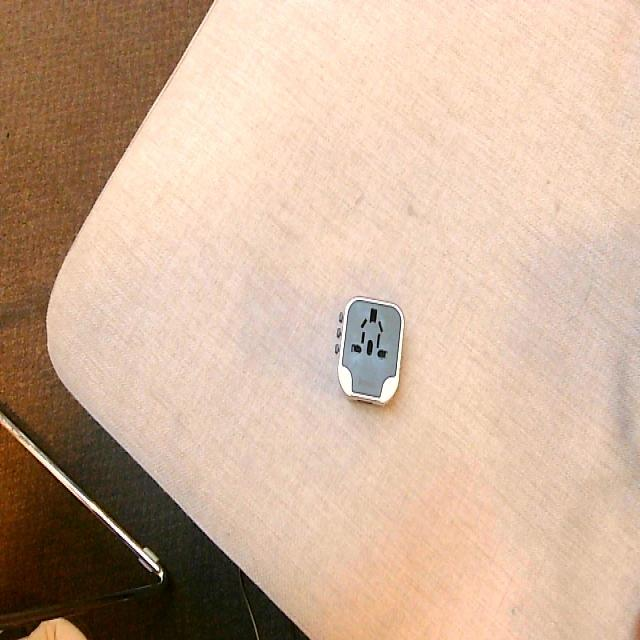adapter: (334, 295, 404, 405)
